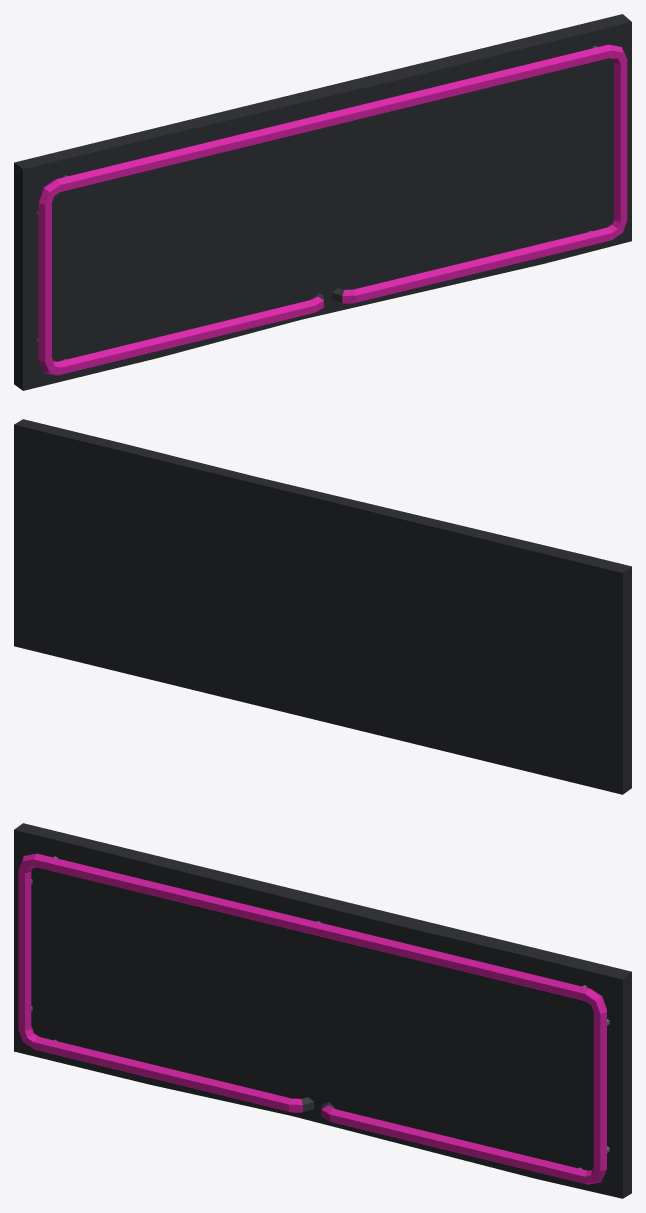
The model's file is SM_Sign_Backing_Short_04.obj.
3 renders of one model, top to bottom at view 1: azimuth 30°, elevation 25°; view 2: azimuth 150°, elevation 25°; view 3: azimuth 330°, elevation 25°, orthographic.
Parts seen in each view (by area): view 1: SM_Sign_Backing_Short_04_0; view 2: SM_Sign_Backing_Short_04_0; view 3: SM_Sign_Backing_Short_04_0.
Part boxes in pixels (x1,y1,x2,y2): SM_Sign_Backing_Short_04_0: [14, 14, 631, 390]; SM_Sign_Backing_Short_04_0: [14, 419, 631, 794]; SM_Sign_Backing_Short_04_0: [14, 823, 631, 1198].
Size of the model in its own units: 5.51 by 1.92 by 0.2833.
1 material, 1 textured.
